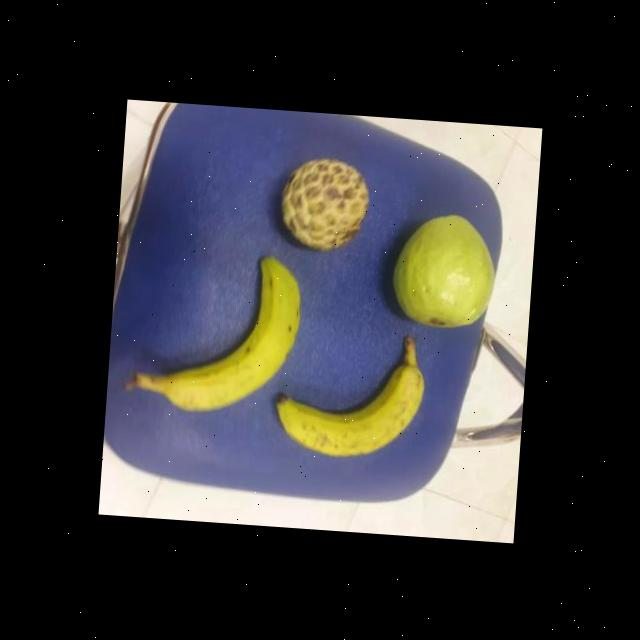Sakya fruit: (276, 150, 371, 252)
banana: (147, 245, 306, 417), (274, 327, 428, 463)
guava: (387, 207, 500, 328)
